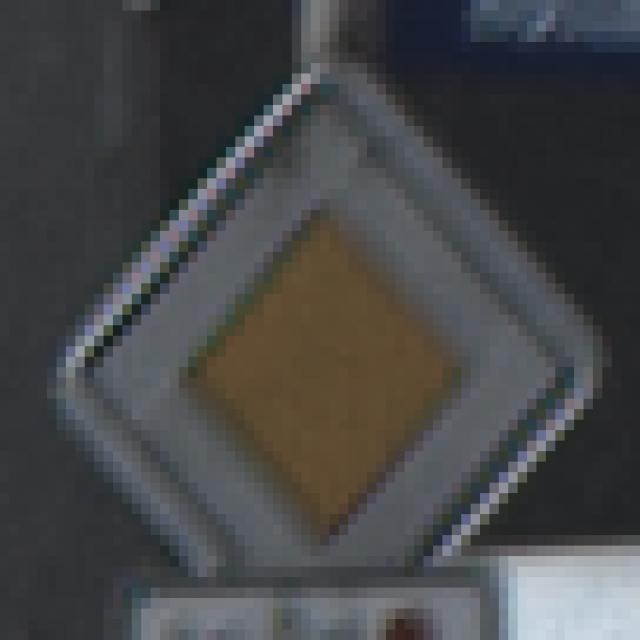Main Road: (58, 64, 585, 588)
